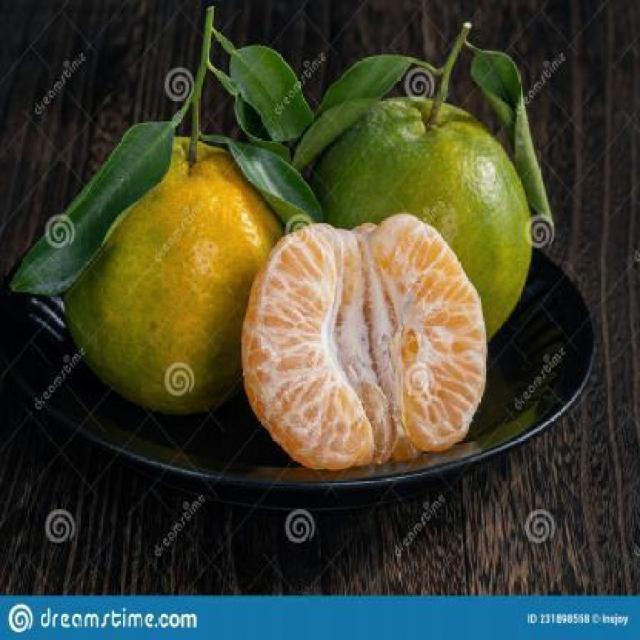Jeruk Sudah Matang: (40, 131, 294, 417), (280, 96, 536, 358)
